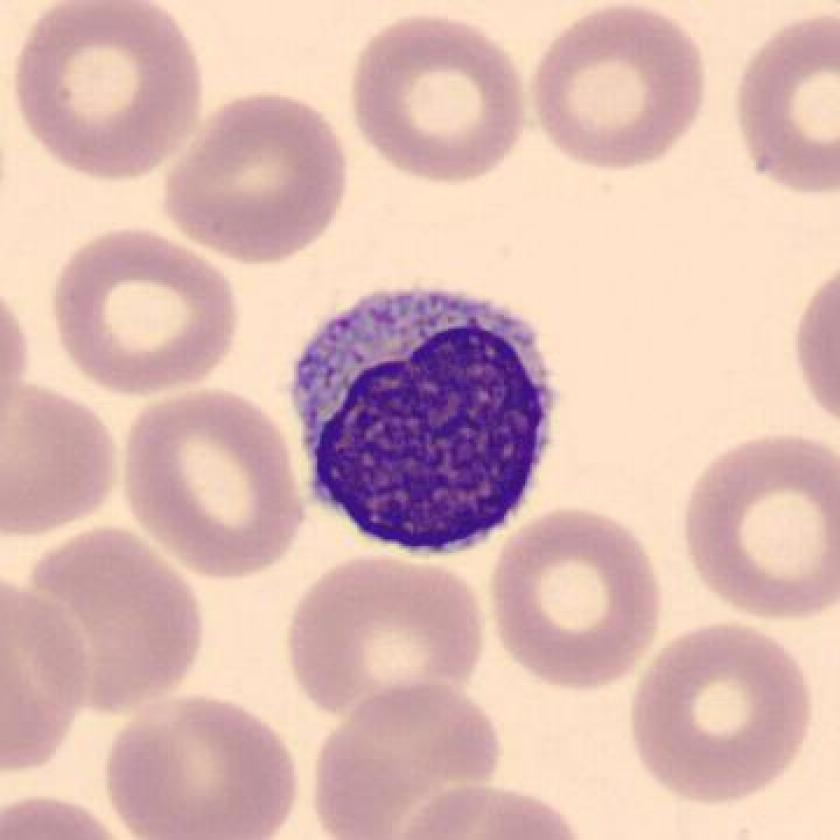lymphocyte: (272, 272, 575, 570)
